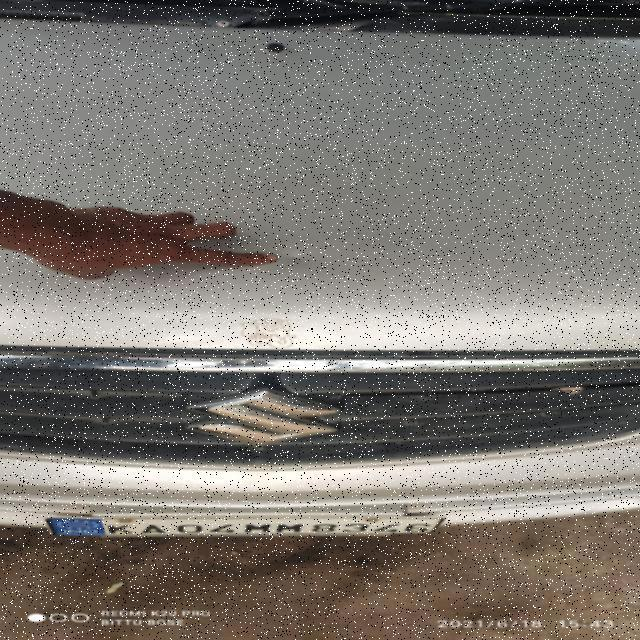bonnet-dent: (3, 16, 639, 392)
